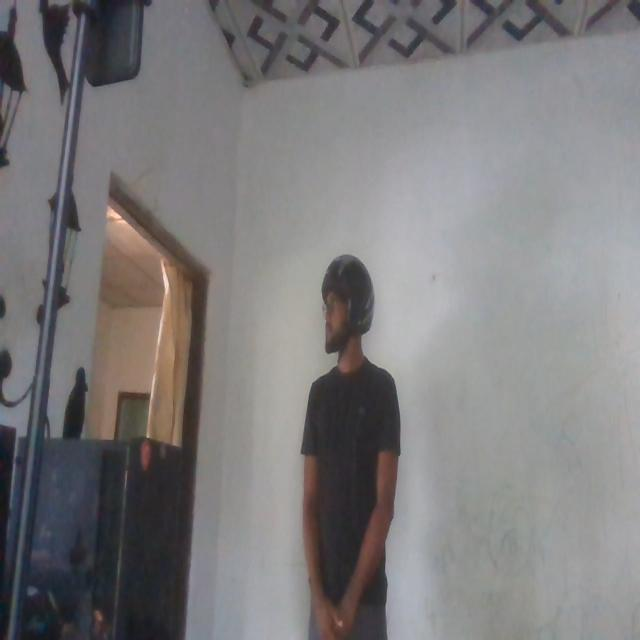Helmet_Wearer: (314, 251, 381, 366)
Person: (294, 259, 404, 640)
